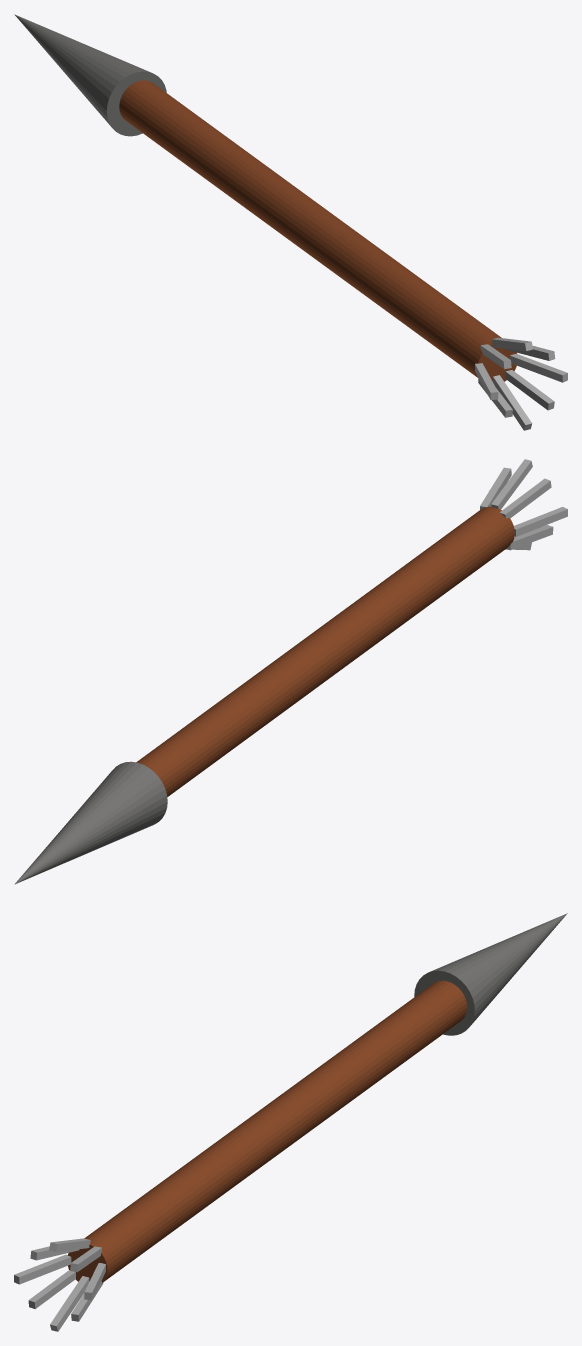
File: arrow.fbx
3 views of the same model, one above another, from view 1: azimuth 30°, elevation 25°; view 2: azimuth 150°, elevation 25°; view 3: azimuth 330°, elevation 25° (orthographic).
Parts seen in each view (by area): view 1: Cylinder, Cone, Cube.002, Cube.005, Cube.001; view 2: Cylinder, Cone, Cube.004, Cube, Cube.006; view 3: Cylinder, Cone, Cube.001, Cube.006, Cube.007.
Boxes of the visible parts, left/top/right/bottom form: Cylinder: left=119, top=80, right=517, bottom=381; Cone: left=14, top=14, right=166, bottom=136; Cube.002: left=510, top=353, right=567, bottom=382; Cube.005: left=505, top=370, right=554, bottom=410; Cube.001: left=493, top=375, right=532, bottom=430; Cylinder: left=136, top=506, right=514, bottom=796; Cone: left=14, top=761, right=167, bottom=884; Cube.004: left=491, top=459, right=532, bottom=509; Cube: left=500, top=478, right=551, bottom=518; Cube.006: left=514, top=507, right=567, bottom=536; Cylinder: left=67, top=980, right=467, bottom=1282; Cone: left=414, top=913, right=567, bottom=1035; Cube.001: left=50, top=1276, right=89, bottom=1331; Cube.006: left=14, top=1254, right=71, bottom=1284; Cube.007: left=28, top=1270, right=75, bottom=1309.
Size of the model in its own units: 16.52 by 17.98 by 190.
